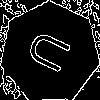U: (25, 27, 80, 80)
